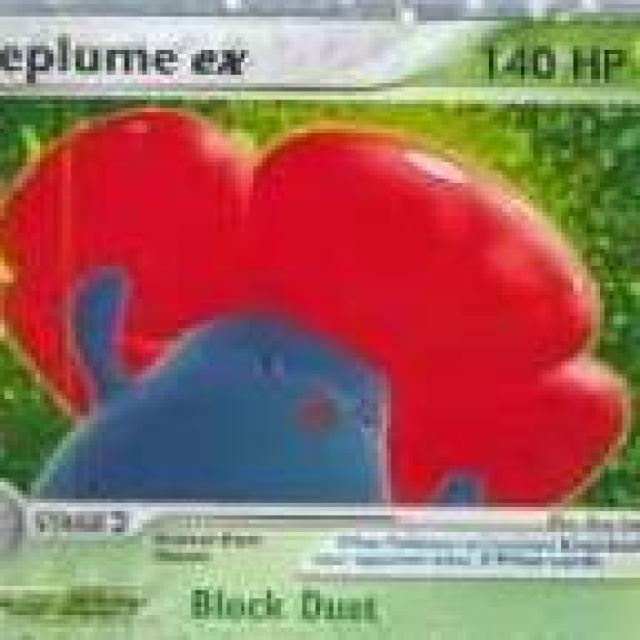Vileplume: (0, 88, 640, 503)
